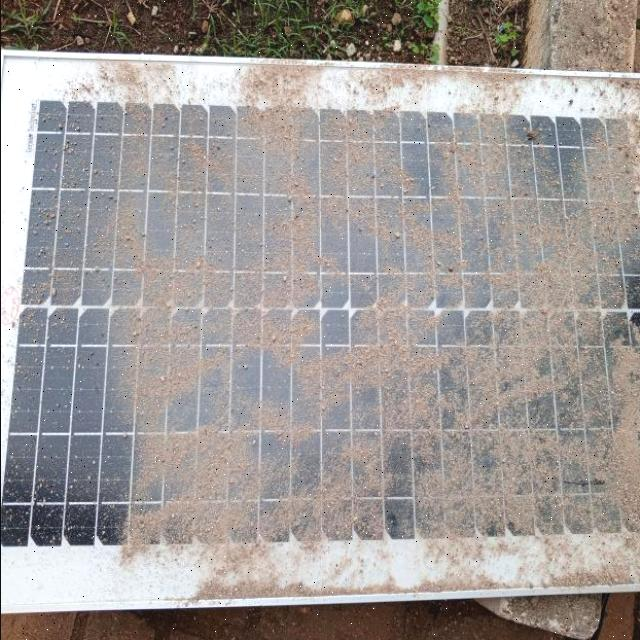Anomaly Solar Panel: (16, 83, 640, 567)
Surface Contaminant: (15, 83, 640, 567)
